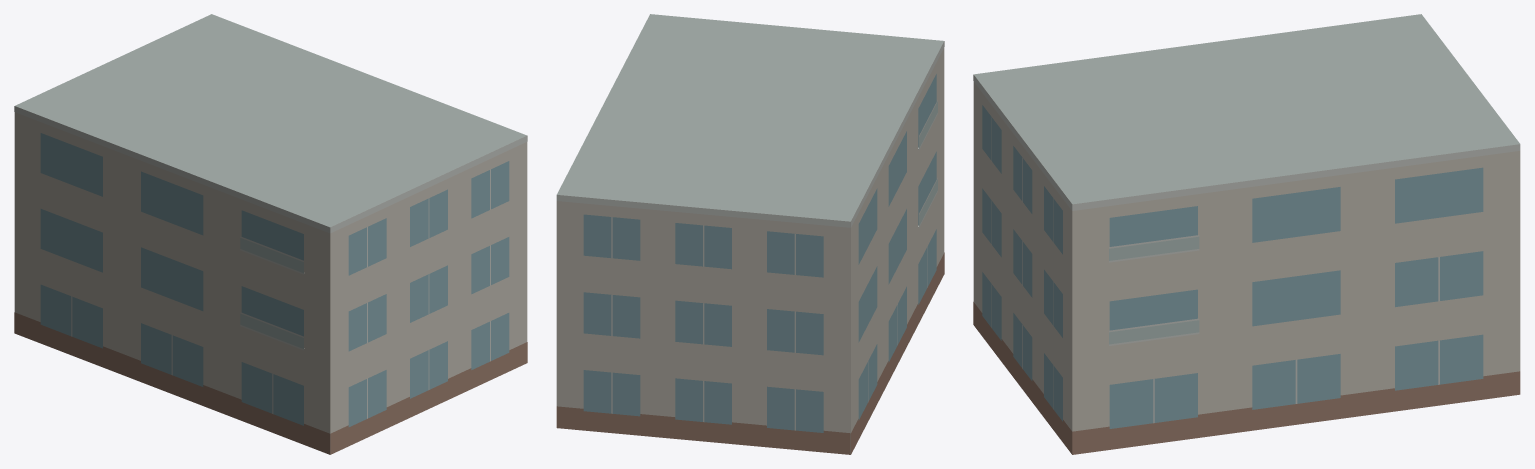
File: survey-upis-32940216.glb
The picture shows the model from 3 angles, left to right: view 1: azimuth 30°, elevation 25°; view 2: azimuth 150°, elevation 25°; view 3: azimuth 270°, elevation 25°; orthographic projection. The views are drawn at different scales.
Visible parts, largest first — view 1: survey-upis-32940216.tmp; view 2: survey-upis-32940216.tmp; view 3: survey-upis-32940216.tmp.
Part boxes in pixels (x1,y1,x2,y2): survey-upis-32940216.tmp: (14, 14, 527, 454); survey-upis-32940216.tmp: (556, 14, 944, 454); survey-upis-32940216.tmp: (973, 14, 1520, 454).
Size of the model in its own units: 14.92 by 9.15 by 18.12.
